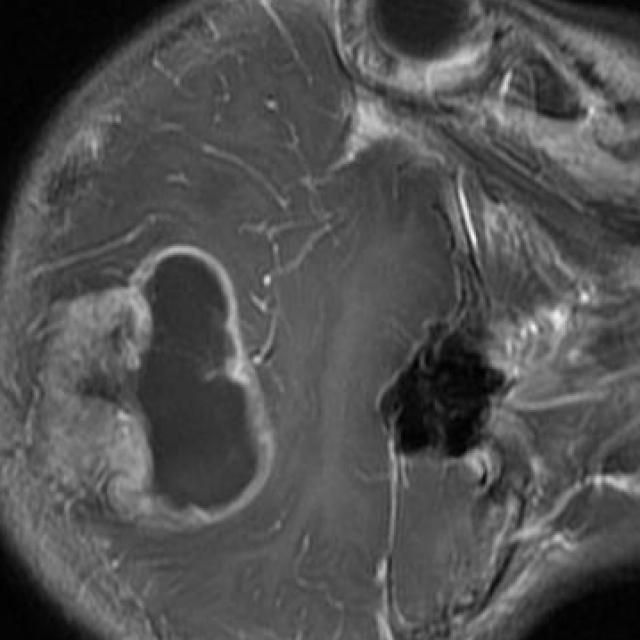glioma: (30, 244, 275, 533)
